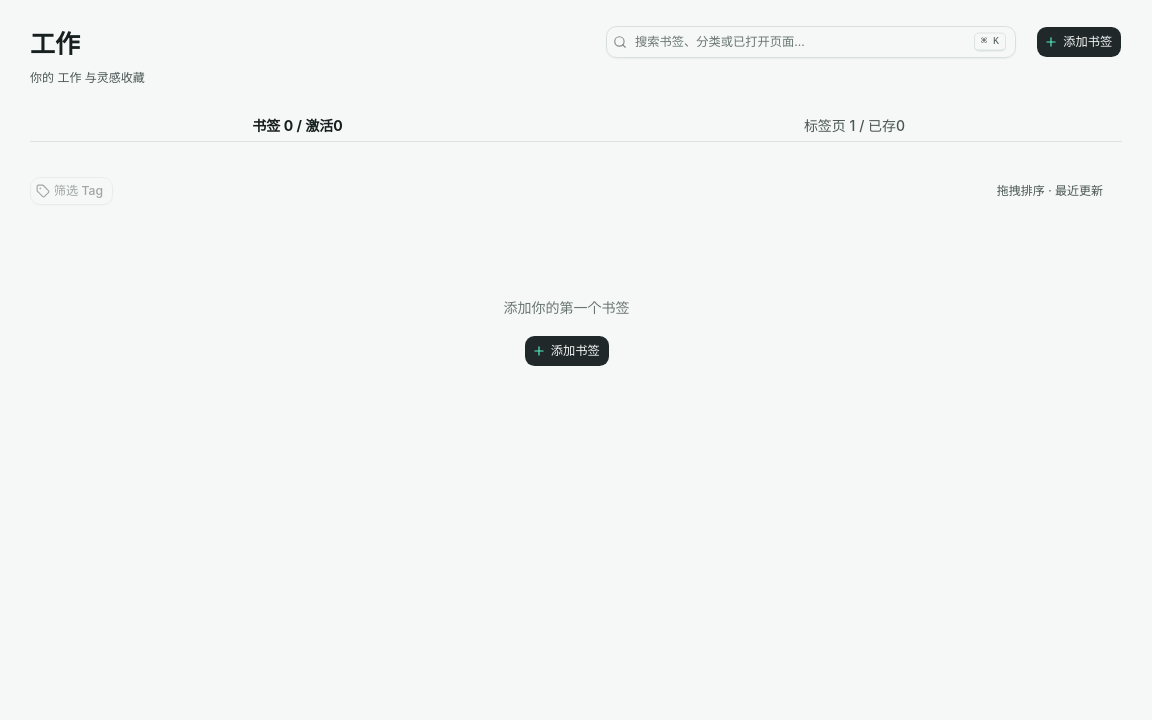
it: Content 存为常驻标签 › 标签页视图点「存为常驻标签」→ 弹 Dialog 预填 tab.url/title
This screenshot has width=1152, height=720.
Click the tab "标签页 1 / 已存0".
click(854, 126)  # box [587,102,1122,150]
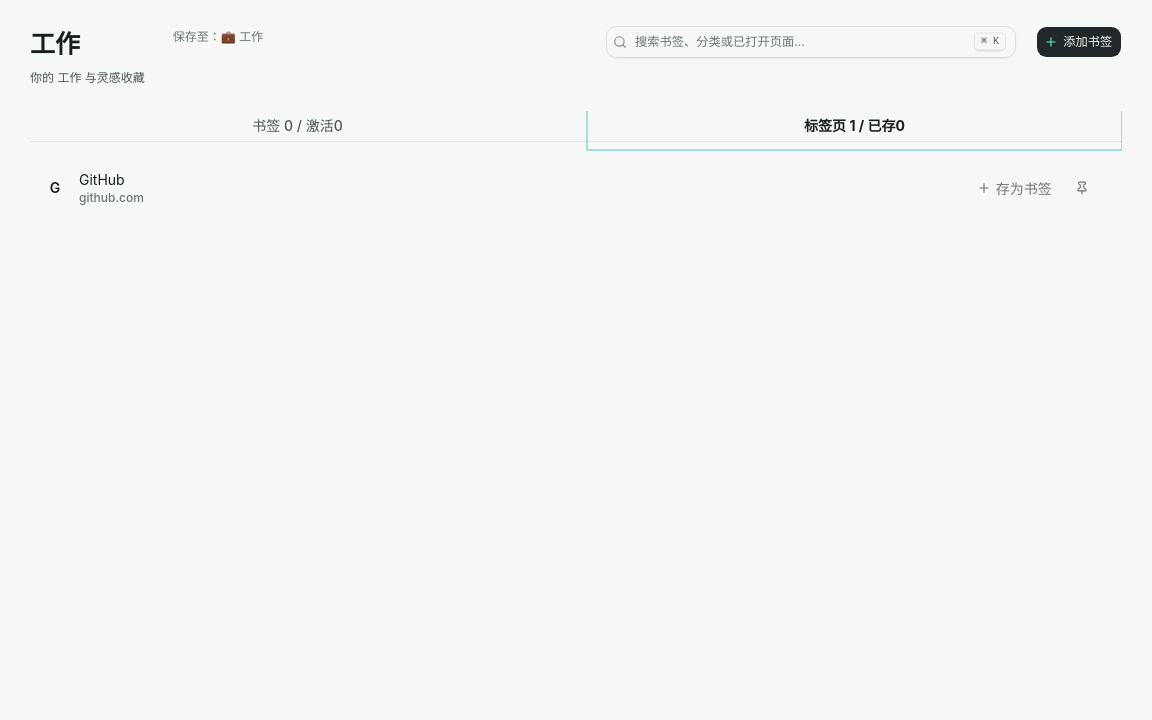
Click the button named "存为常驻标签".
click(1082, 188)  # box [1066,172,1099,204]
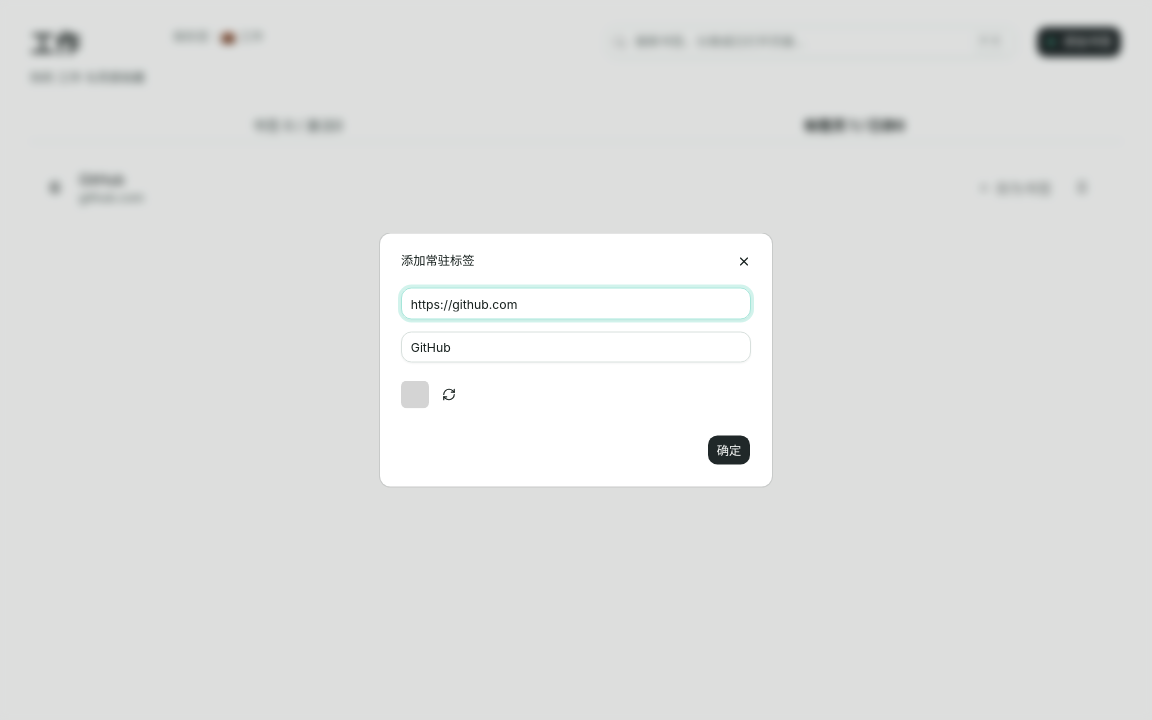
Expected: the field with placeholder "链接 URL" holds "https://github.com", [401,288,751,319]
Expected: the field with placeholder "名称" holds "GitHub", [401,331,751,363]
